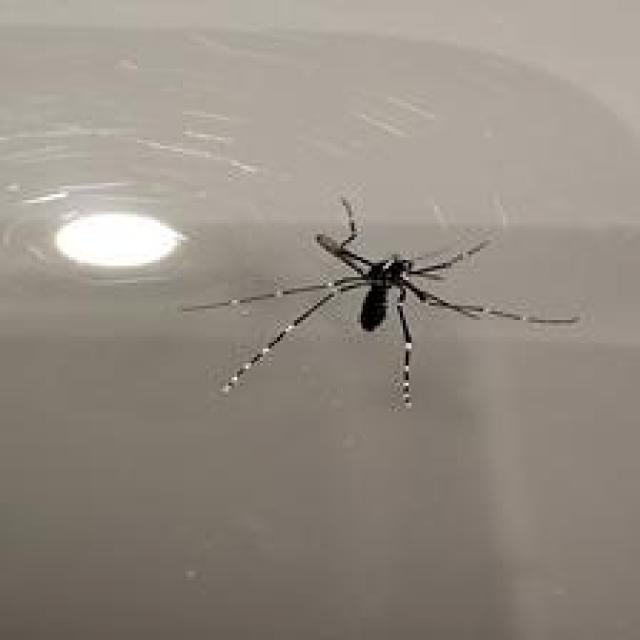Aedes albopictus: (180, 196, 580, 410)
